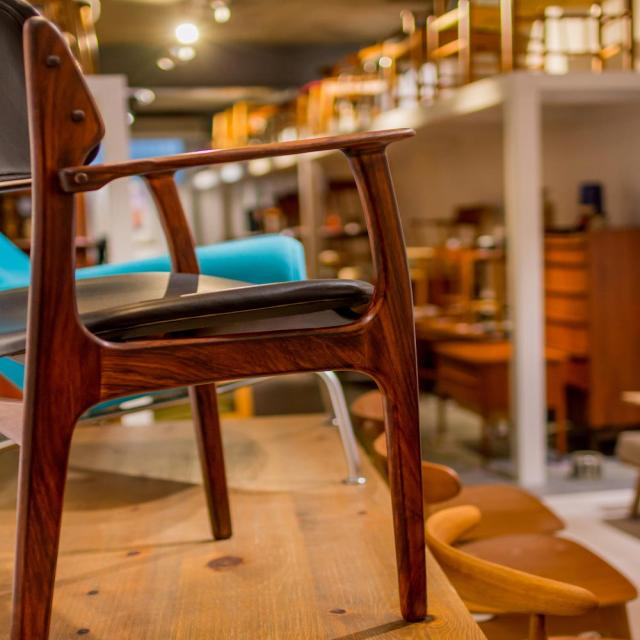chair vintage: (0, 0, 434, 639)
